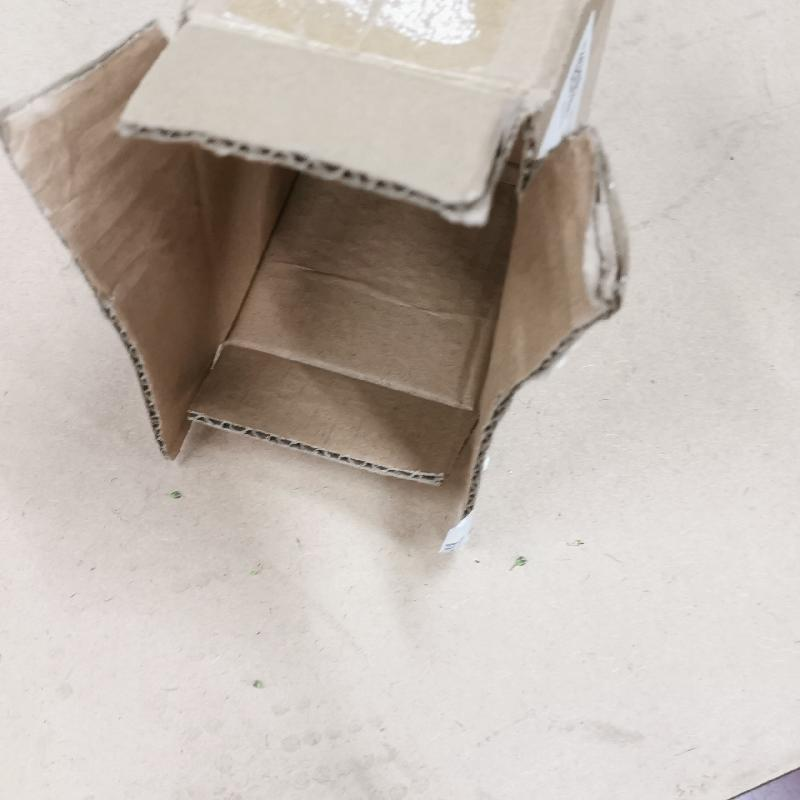boxes: (4, 1, 641, 547)
